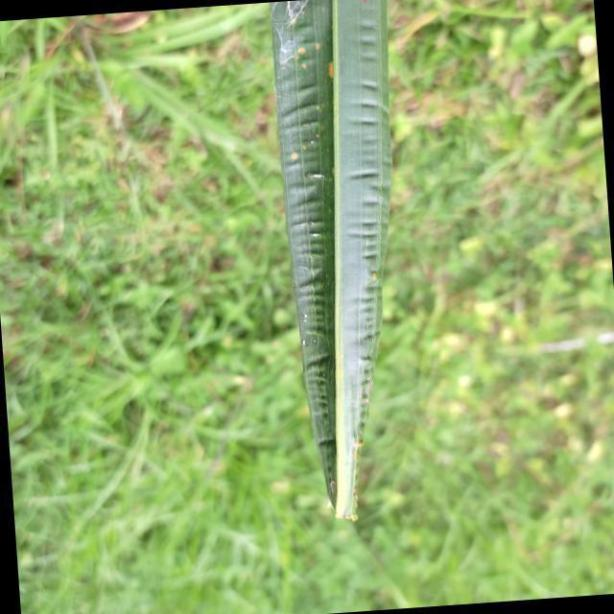Boron: (264, 0, 391, 529)
